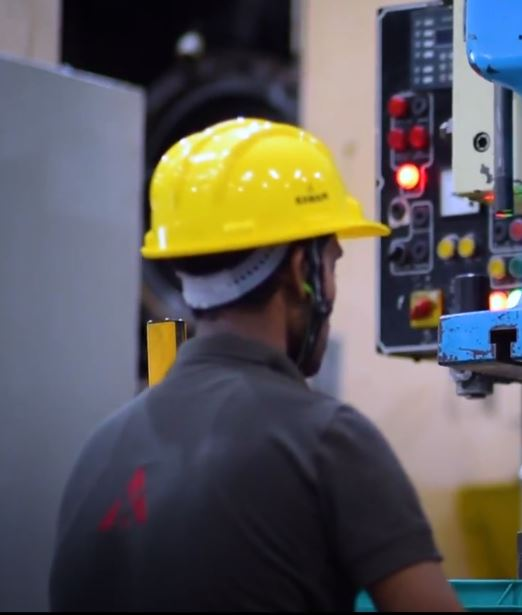Safety Helmet: (130, 104, 398, 406)
